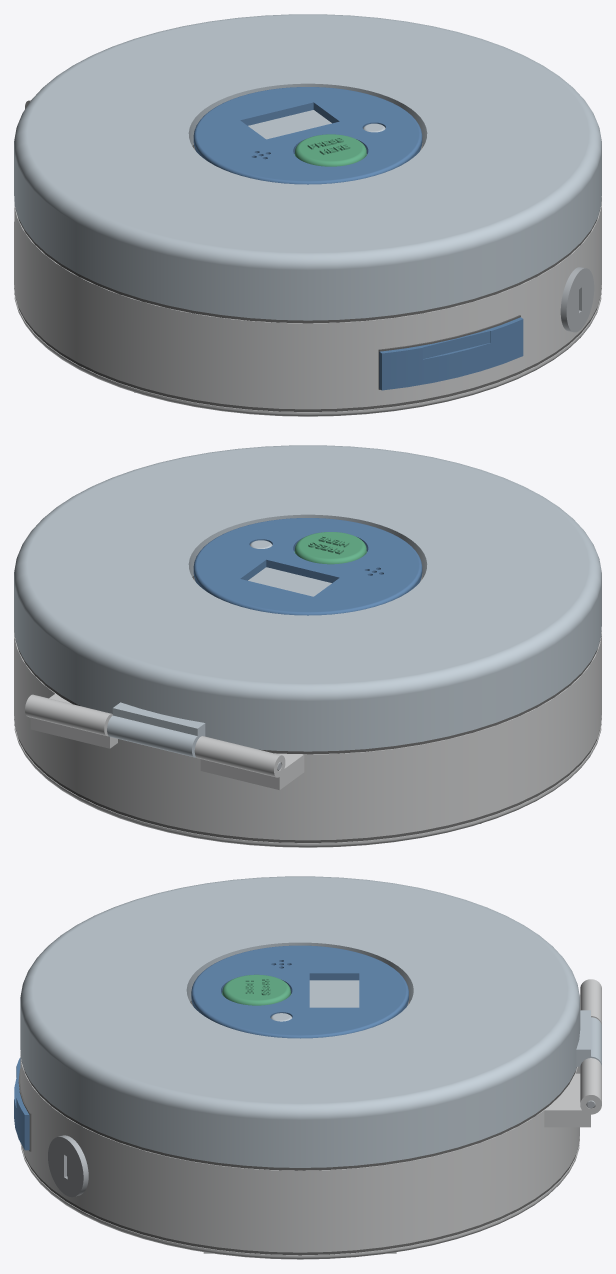
File: step_07.glb
The picture shows the model from 3 angles, top to bottom: view 1: azimuth 30°, elevation 25°; view 2: azimuth 150°, elevation 25°; view 3: azimuth 270°, elevation 25°; orthographic projection. The views are drawn at different scales.
Parts seen in each view (by area): view 1: part__lid, part__chassis, part__pod cap, part__dispensing drawer, part__bottom cover, part__PRESS HERE button, part__lid gasket, part__base gasket, part__pharmacy lock, part__display window; view 2: part__lid, part__chassis, part__pod cap, part__bottom cover, part__PRESS HERE button, part__base gasket, part__lid gasket, part__display window; view 3: part__lid, part__chassis, part__pod cap, part__bottom cover, part__pharmacy lock, part__lid gasket, part__base gasket, part__PRESS HERE button, part__display window, part__dispensing drawer.
Boxes of the visible parts, x1,y1,x2,y2 form: part__lid: [14, 14, 601, 320]; part__chassis: [14, 100, 601, 409]; part__pod cap: [193, 87, 422, 184]; part__dispensing drawer: [379, 317, 523, 390]; part__bottom cover: [14, 285, 601, 416]; part__PRESS HERE button: [294, 134, 367, 166]; part__lid gasket: [15, 208, 600, 323]; part__base gasket: [15, 297, 600, 411]; part__pharmacy lock: [560, 267, 594, 332]; part__display window: [248, 110, 331, 139]; part__lid: [14, 445, 601, 757]; part__chassis: [14, 627, 601, 840]; part__pod cap: [193, 518, 422, 615]; part__bottom cover: [14, 715, 601, 847]; part__PRESS HERE button: [294, 532, 366, 564]; part__base gasket: [15, 728, 600, 842]; part__lid gasket: [15, 639, 600, 754]; part__display window: [248, 567, 331, 596]; part__lid: [20, 876, 601, 1167]; part__chassis: [20, 979, 601, 1252]; part__pod cap: [191, 945, 408, 1038]; part__bottom cover: [20, 1136, 579, 1259]; part__pharmacy lock: [48, 1135, 88, 1197]; part__lid gasket: [21, 1061, 576, 1170]; part__base gasket: [21, 1146, 578, 1255]; part__PRESS HERE button: [222, 974, 291, 1005]; part__display window: [309, 980, 359, 1007]; part__dispensing drawer: [14, 1057, 29, 1150].
Bounding box in the file's own units: 180 × 58.6 × 189.
